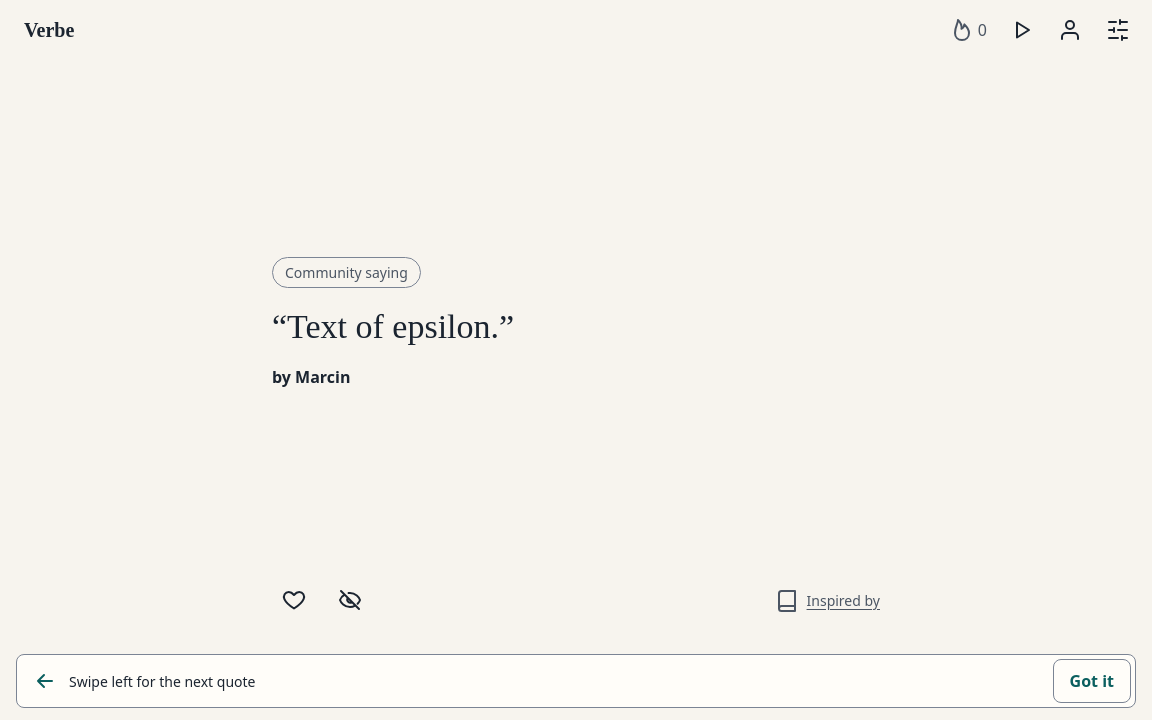
Scenario: favourites and hidden quotes › saves a favourite, lists it in the profile and removes it again
This screenshot has width=1152, height=720.
Click the 4th button named "Favourite" at (294, 600), box [272, 578, 316, 622]
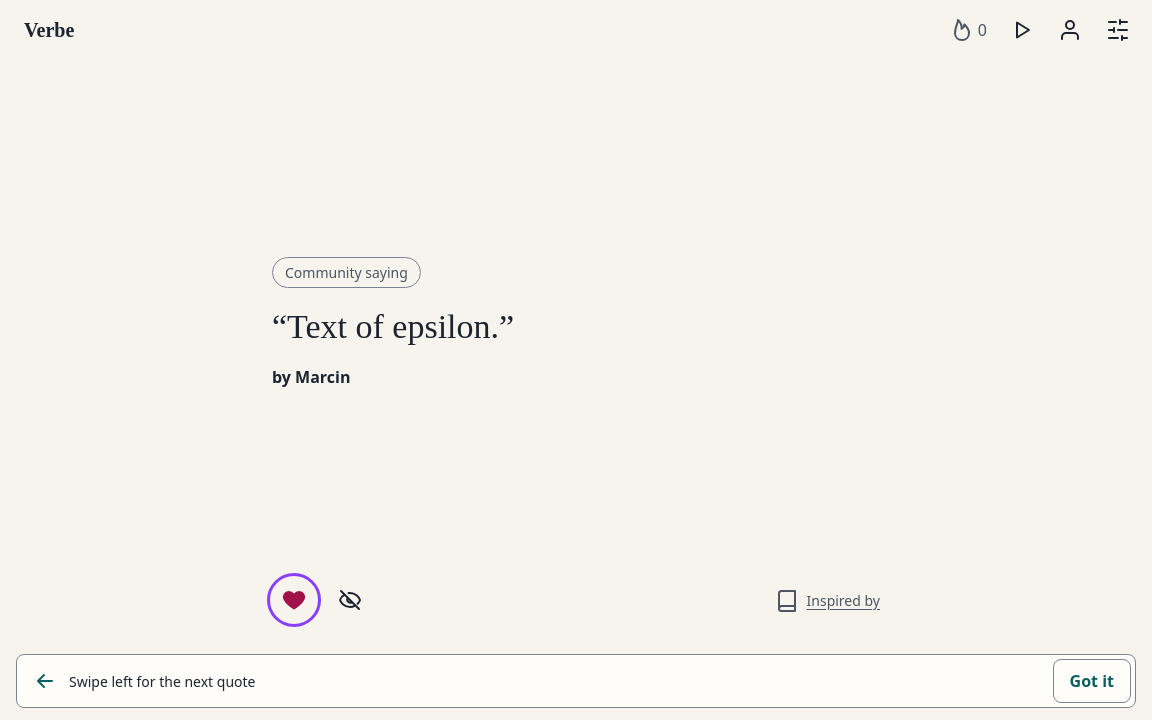
expect the 4th button named "Favourite" is pressed: met, box [272, 578, 316, 622]
Click the 2nd button named "Your profile" at (1070, 30), box [1048, 8, 1092, 52]
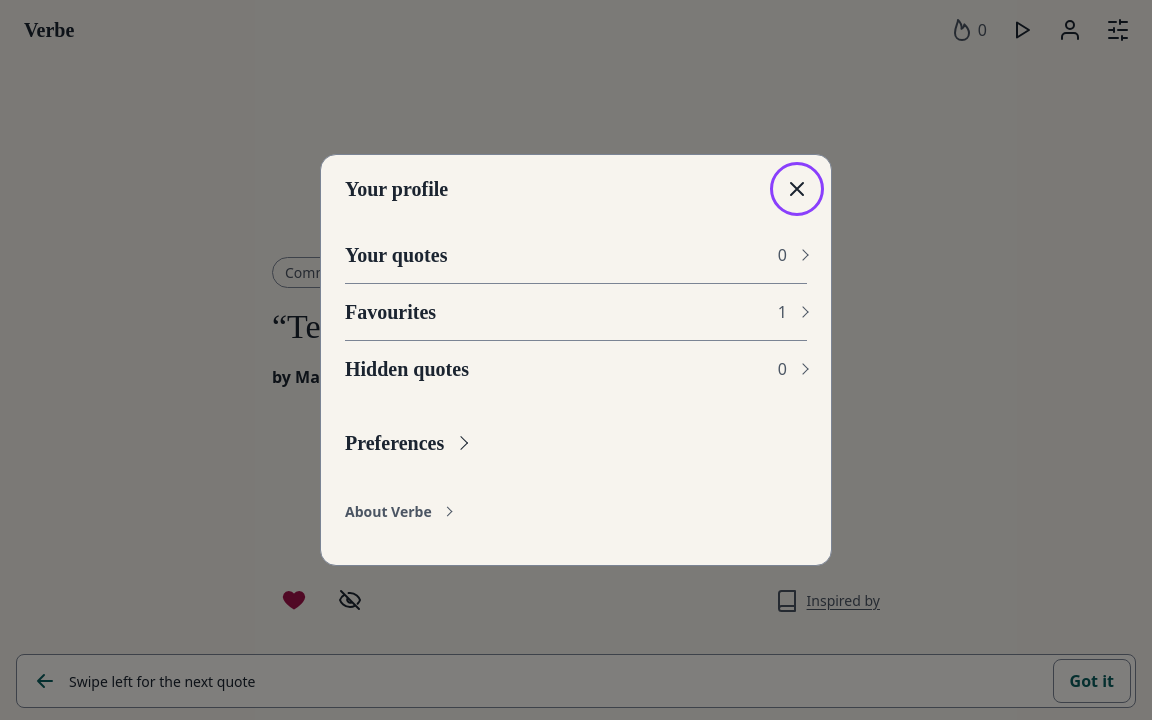
Click the button "Favourites 1" at (391, 312), box [345, 284, 807, 340]
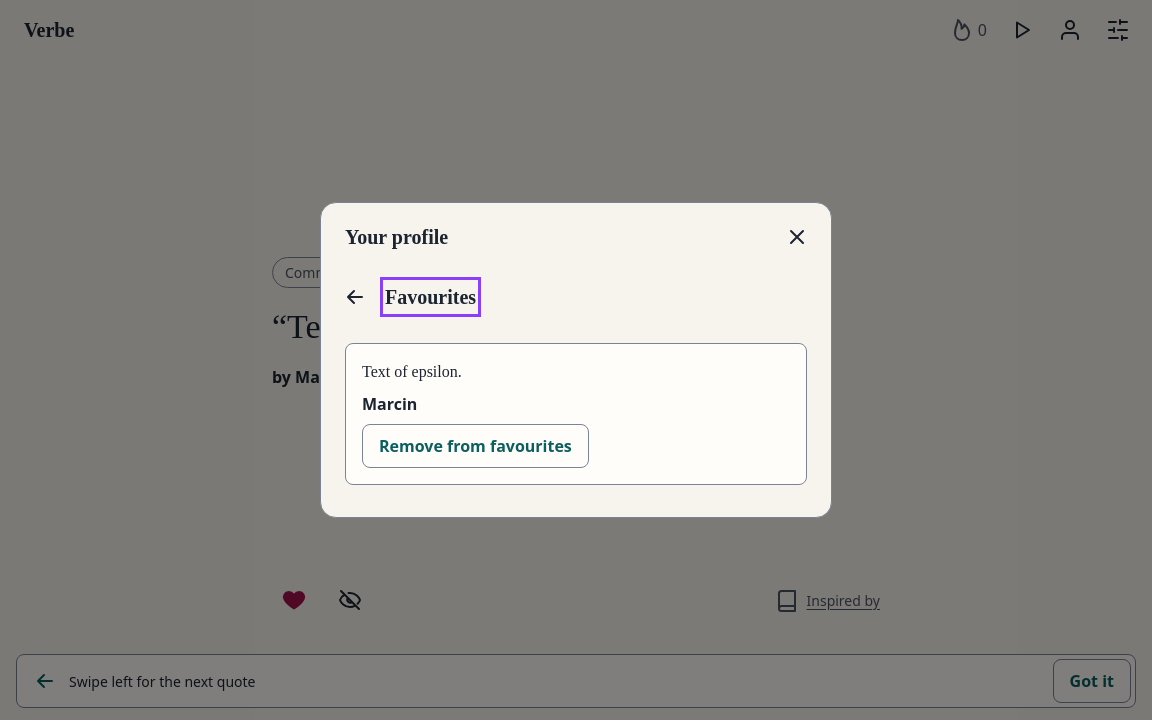
Click the button "Remove from favourites" at (475, 446), box [362, 424, 589, 468]
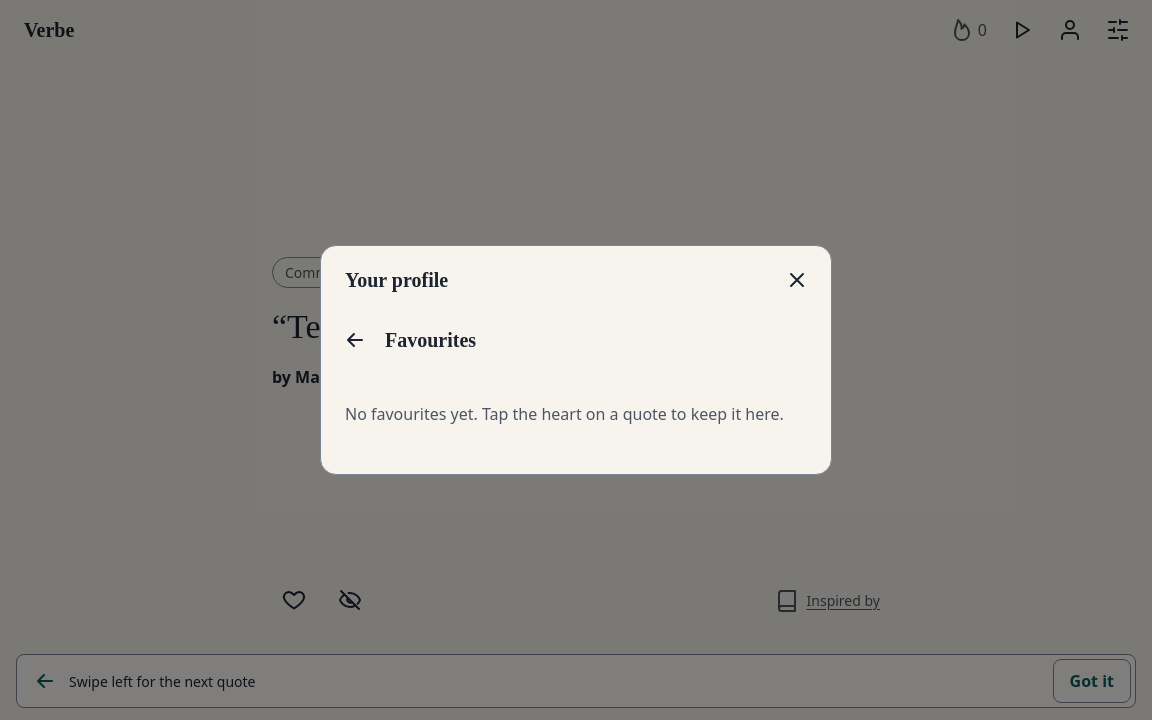
expect the text "No favourites yet. Tap the heart on a quote to keep it here." is shown: met, box [345, 402, 807, 426]
